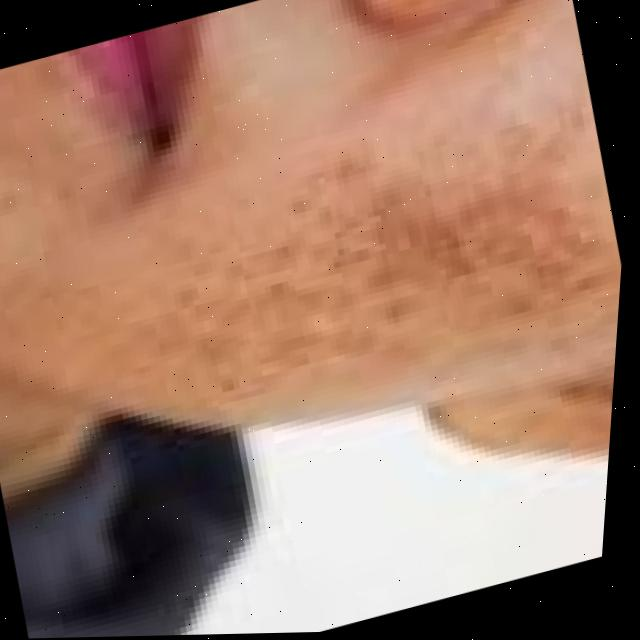Melasma: (182, 83, 613, 394)
